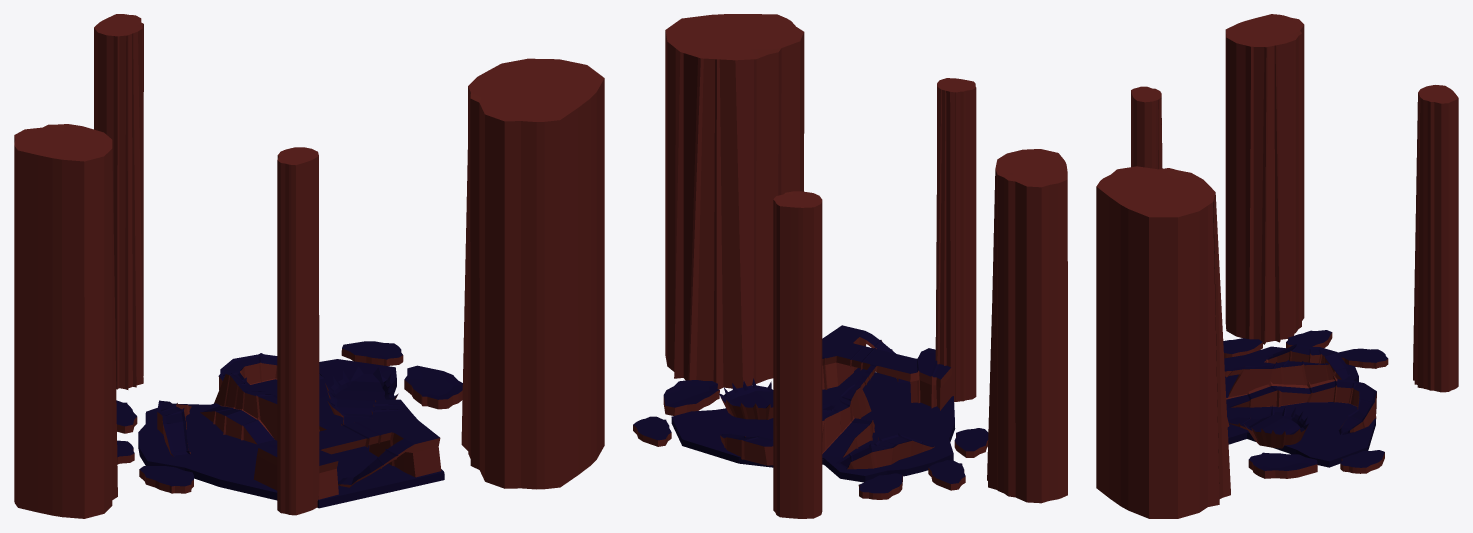
File: AshenRuinsV3Colored.fbx
3 views of the same model, side by side, from view 1: azimuth 30°, elevation 25°; view 2: azimuth 150°, elevation 25°; view 3: azimuth 270°, elevation 25° (orthographic). The views are drawn at different scales.
Visible parts, largest first — view 1: Plane.105, Plane.103, Plane.069, Plane.104, Plane.057, Plane.056, Plane.088, Plane.090, Plane.055, Plane.041, Plane.068, Plane.089 (+1 smaller); view 2: Plane.105, Plane.103, Plane.104, Plane.069, Plane.057, Plane.056, Plane.041, Plane.088, Plane.090, Plane.068, Plane.055, Plane.058 (+3 smaller); view 3: Plane.105, Plane.103, Plane.104, Plane.057, Plane.068, Plane.069, Plane.056, Plane.088, Plane.090, Plane.041, Plane.089, Plane.058 (+2 smaller).
Part boxes in pixels (x1,y1,x2,y2): Plane.105: (461,58,604,489); Plane.103: (14,124,117,518); Plane.069: (277,147,319,515); Plane.104: (94,14,143,389); Plane.057: (138,359,444,508); Plane.056: (214,371,441,499); Plane.088: (325,366,398,424); Plane.090: (404,365,462,409); Plane.055: (200,405,274,444); Plane.041: (157,400,191,457); Plane.068: (218,353,324,389); Plane.089: (341,341,403,366); Plane.105: (665,14,804,389); Plane.103: (987,149,1067,503); Plane.104: (773,191,822,518); Plane.069: (935,78,976,402); Plane.057: (671,368,955,482); Plane.056: (822,325,951,452); Plane.041: (836,433,934,469); Plane.088: (719,378,773,419); Plane.090: (663,380,719,415); Plane.068: (720,403,835,465); Plane.055: (822,416,874,459); Plane.058: (858,473,902,499); Plane.105: (1096,166,1230,518); Plane.103: (1225,14,1304,344); Plane.104: (1413,85,1458,392); Plane.057: (1224,346,1375,467); Plane.068: (1226,375,1376,435); Plane.069: (1131,86,1162,169); Plane.056: (1224,360,1336,426); Plane.088: (1228,405,1308,448); Plane.090: (1248,452,1317,478); Plane.041: (1264,344,1350,379); Plane.089: (1340,450,1384,473); Plane.058: (1338,348,1388,368).
Bounding box in the file's own units: 9021 × 6211 × 6729.
